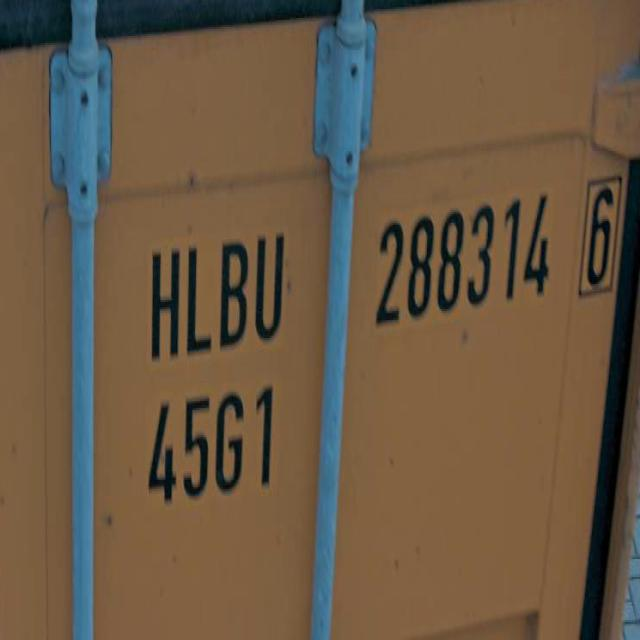dv: (580, 170, 622, 304)
owner: (144, 225, 288, 366)
serial: (372, 182, 554, 348)
size: (138, 374, 285, 521)
